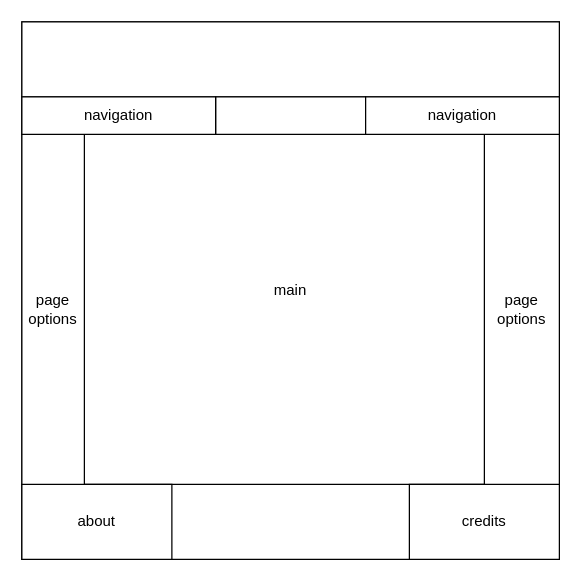
This 581x581 diagram has some shape labels left out. Each missing label, with the box of its shape:
footer: (21, 483, 559, 559)
header: (21, 21, 559, 134)
login/register/logout button: (214, 96, 366, 134)
